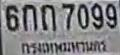0: (77, 3, 88, 28)
6: (5, 4, 18, 30)
7: (61, 2, 74, 30)
9: (90, 2, 103, 28), (105, 2, 116, 28)
A01: (21, 3, 37, 30)
A22: (40, 3, 56, 30)
BKK: (20, 37, 107, 55)
